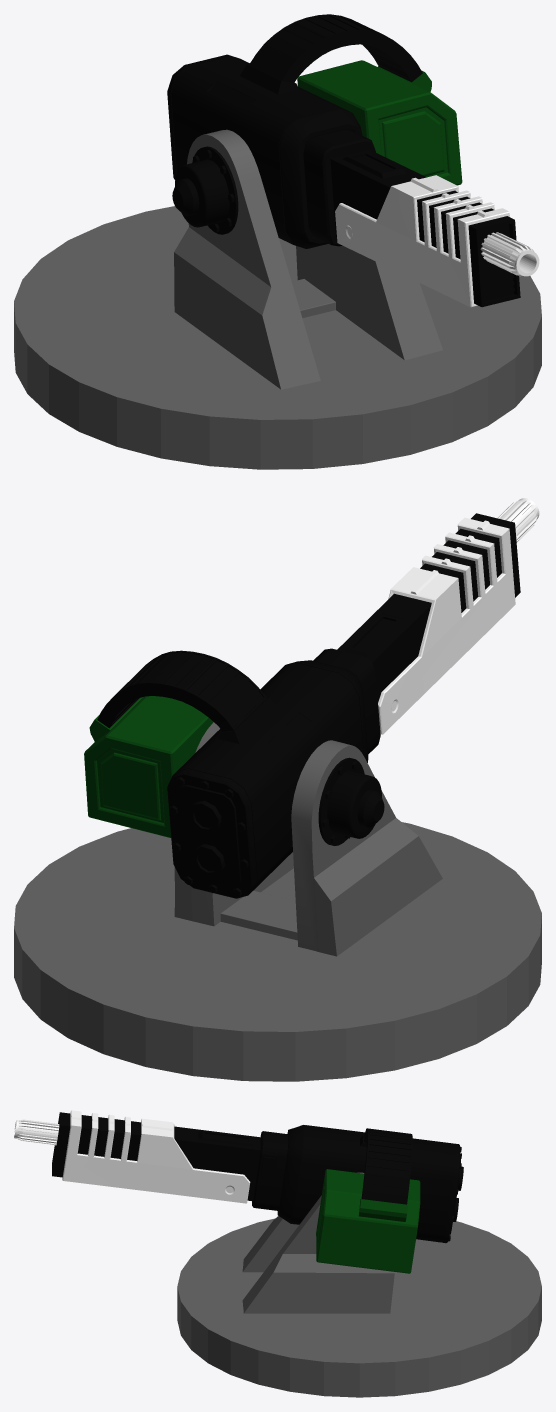
Rendered from Turret.fbx.
The picture shows the model from 3 angles, top to bottom: view 1: azimuth 30°, elevation 25°; view 2: azimuth 150°, elevation 25°; view 3: azimuth 270°, elevation 25°; orthographic projection. The views are drawn at different scales.
Parts seen in each view (by area): view 1: Base, Gun, Turntable; view 2: Base, Gun, Turntable; view 3: Base, Gun, Turntable.
Boxes of the visible parts, x1=… form: Base: x1=14, y1=206, x2=541, y2=469; Gun: x1=167, y1=14, x2=539, y2=307; Turntable: x1=174, y1=129, x2=442, y2=389; Base: x1=14, y1=822, x2=541, y2=1081; Gun: x1=84, y1=498, x2=539, y2=898; Turntable: x1=174, y1=722, x2=442, y2=956; Base: x1=177, y1=1218, x2=541, y2=1397; Gun: x1=14, y1=1110, x2=463, y2=1273; Turntable: x1=242, y1=1172, x2=394, y2=1313.
Bounding box in the file's own units: 354 × 225 × 513.
